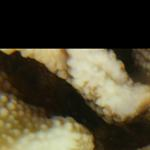dead: (1, 51, 144, 148)
